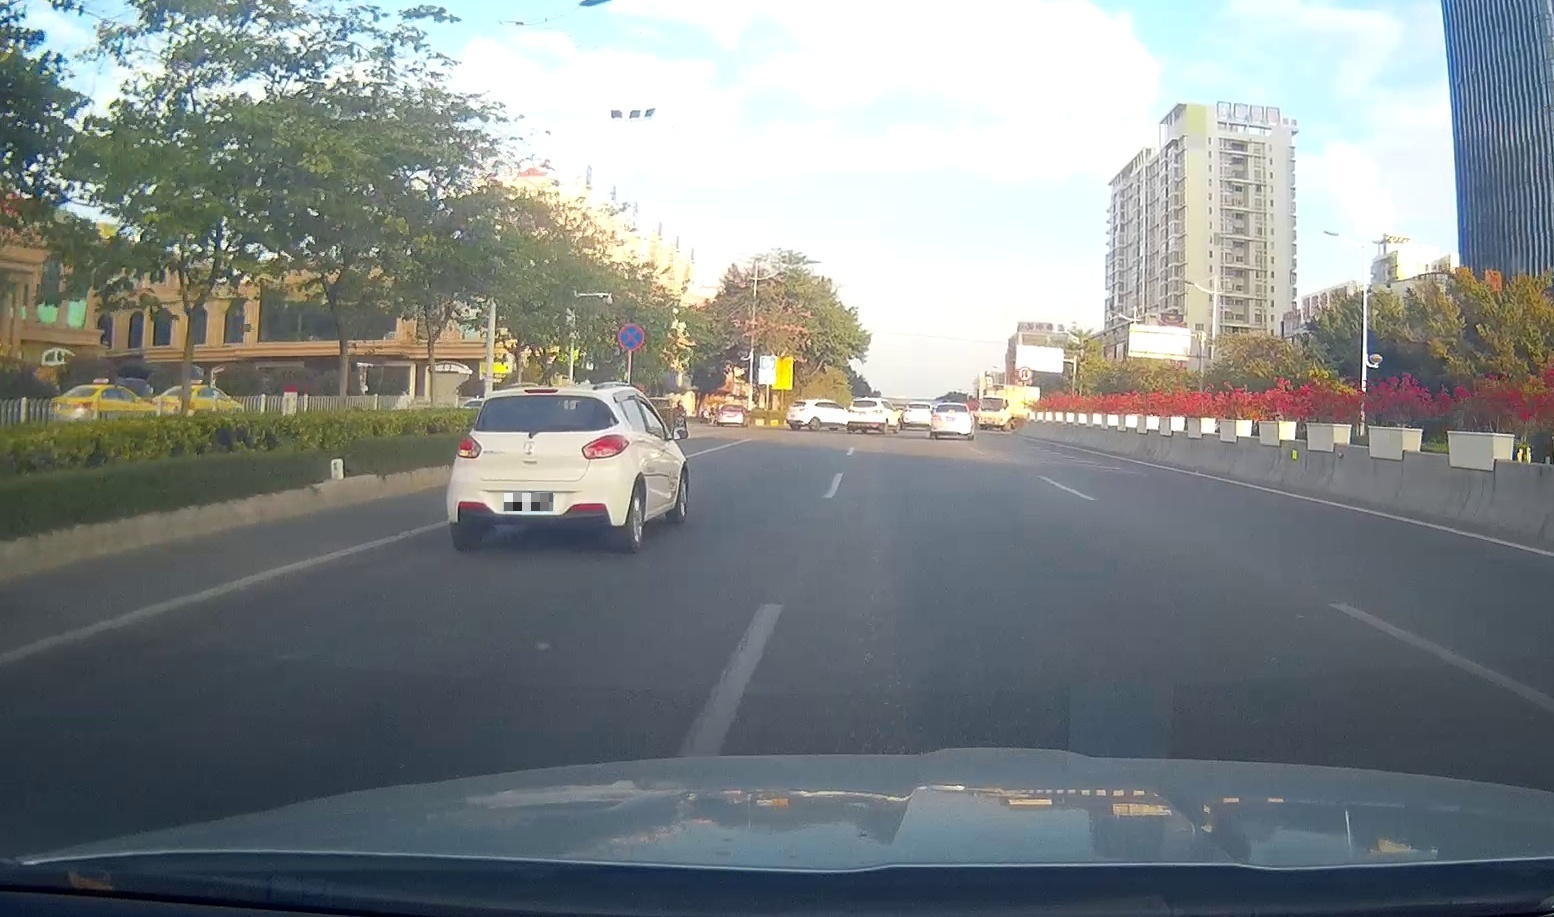L_light: (456, 434, 481, 458)
R_light: (581, 434, 630, 460)
T_light: (523, 388, 557, 393)
day-left: (446, 388, 631, 552)
plate_1: (504, 493, 553, 511)
